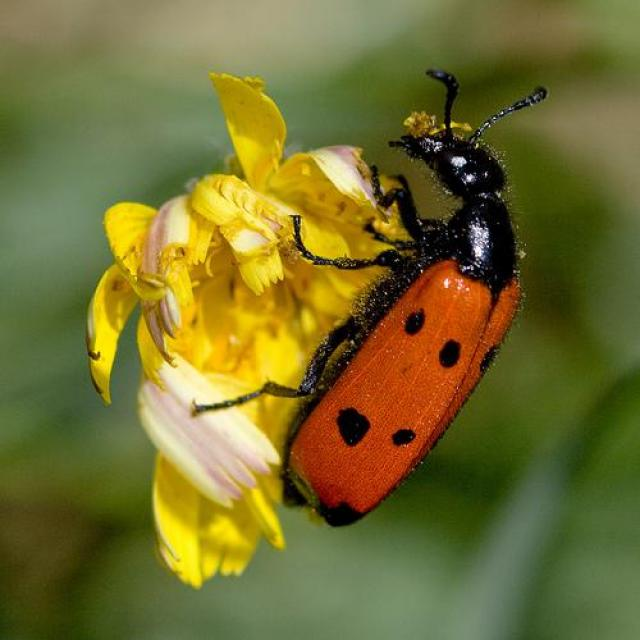BlisterBeetle-Adult-: (258, 59, 556, 526)
